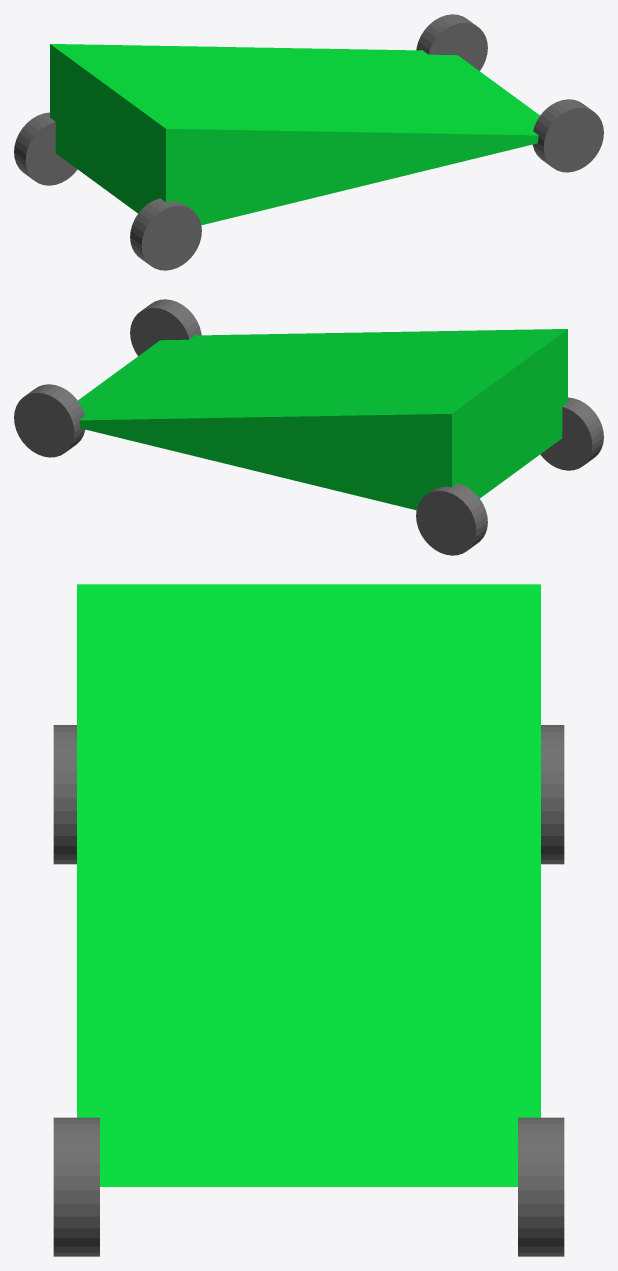
File: car.fbx
The picture shows the model from 3 angles, top to bottom: view 1: azimuth 30°, elevation 25°; view 2: azimuth 150°, elevation 25°; view 3: azimuth 270°, elevation 25°; orthographic projection. The views are drawn at different scales.
Visible parts, largest first — view 1: Body, Wheel_FR, Wheel_RR, Wheel_RL, Wheel_FL; view 2: Body, Wheel_FL, Wheel_RL, Wheel_RR, Wheel_FR; view 3: Body, Wheel_FL, Wheel_FR, Wheel_RL, Wheel_RR.
Boxes of the visible parts, left/top/right/bottom form: Body: left=50, top=44, right=539, bottom=225; Wheel_FR: left=532, top=99, right=603, bottom=172; Wheel_RR: left=130, top=198, right=201, bottom=270; Wheel_RL: left=14, top=112, right=77, bottom=185; Wheel_FL: left=416, top=14, right=487, bottom=70; Body: left=78, top=329, right=567, bottom=510; Wheel_FL: left=14, top=384, right=85, bottom=457; Wheel_RL: left=416, top=483, right=487, bottom=555; Wheel_RR: left=540, top=397, right=603, bottom=470; Wheel_FR: left=130, top=299, right=201, bottom=355; Body: left=77, top=584, right=540, bottom=1186; Wheel_FL: left=518, top=1117, right=564, bottom=1256; Wheel_FR: left=53, top=1117, right=99, bottom=1256; Wheel_RL: left=541, top=725, right=564, bottom=864; Wheel_RR: left=53, top=725, right=76, bottom=864.
Size of the model in its own units: 220 by 460 by 130.
